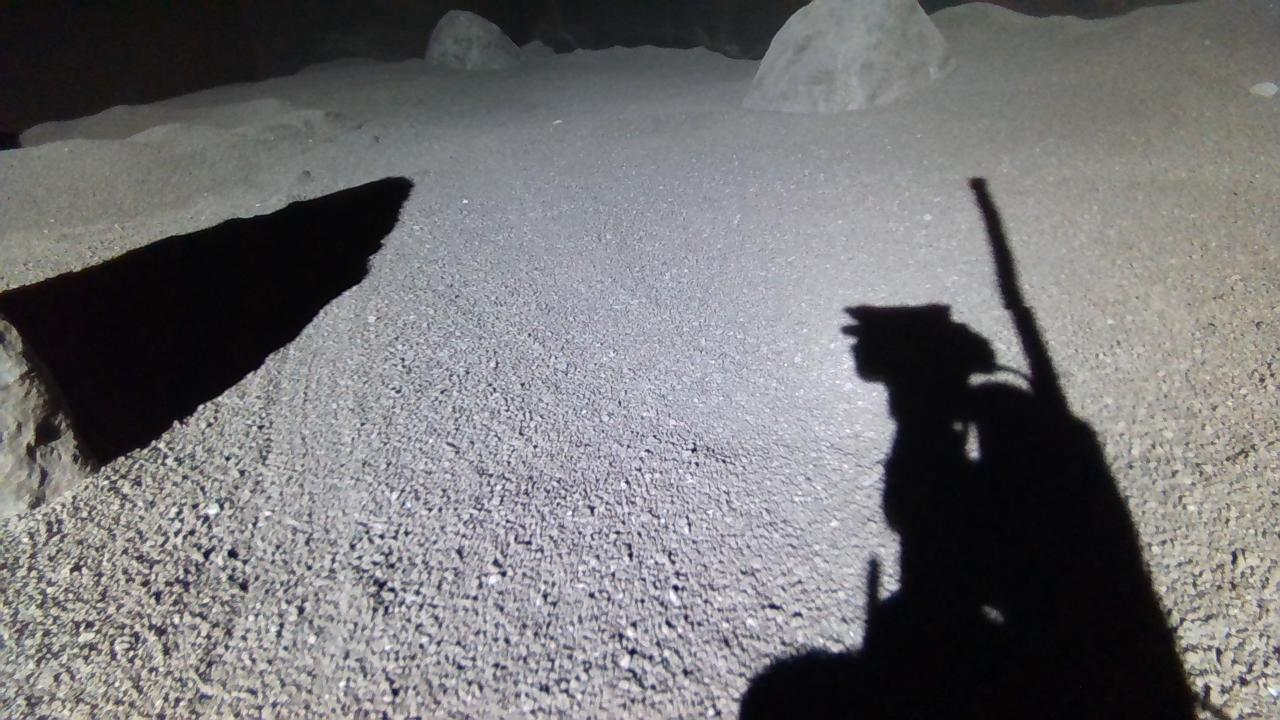rock: (744, 0, 957, 112), (0, 317, 96, 519), (425, 10, 521, 68)
